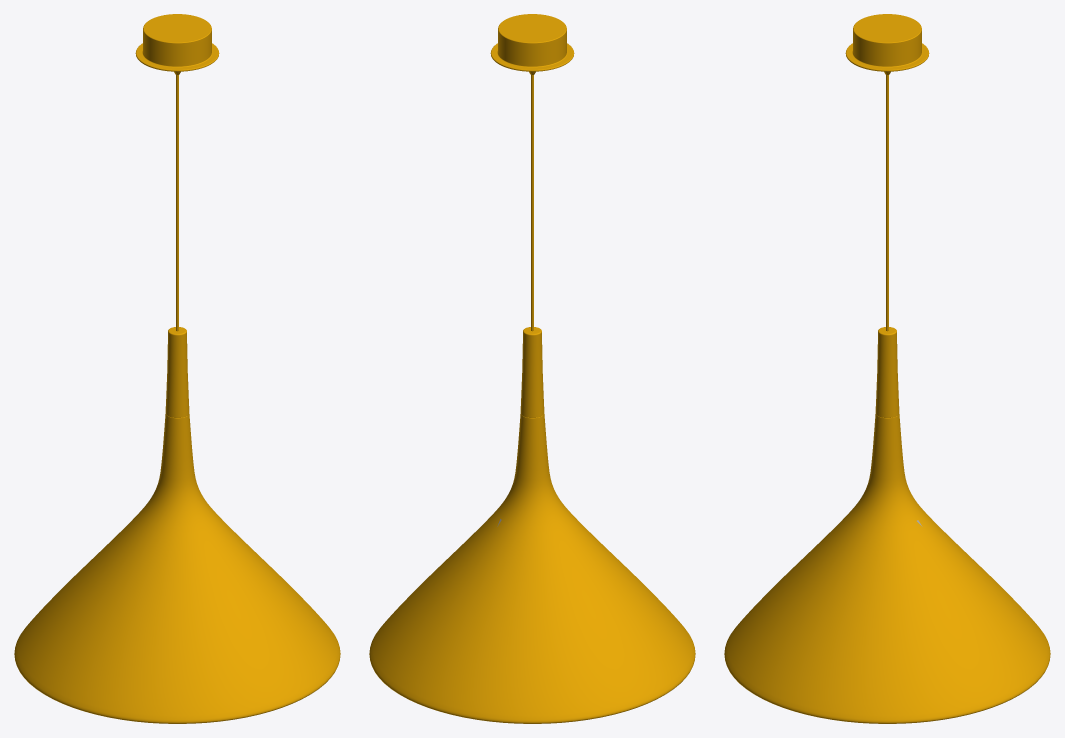
File: pendantlamp1.fbx
3 views of the same model, side by side, from view 1: azimuth 30°, elevation 25°; view 2: azimuth 150°, elevation 25°; view 3: azimuth 270°, elevation 25° (orthographic).
Visible parts, largest first — view 1: pendantlamp1; view 2: pendantlamp1; view 3: pendantlamp1.
Boxes of the visible parts, bbox=[...] form: pendantlamp1: bbox=[14, 14, 340, 723]; pendantlamp1: bbox=[369, 14, 695, 723]; pendantlamp1: bbox=[724, 14, 1050, 723].
Size of the model in its own units: 37.68 by 80.05 by 37.68.
